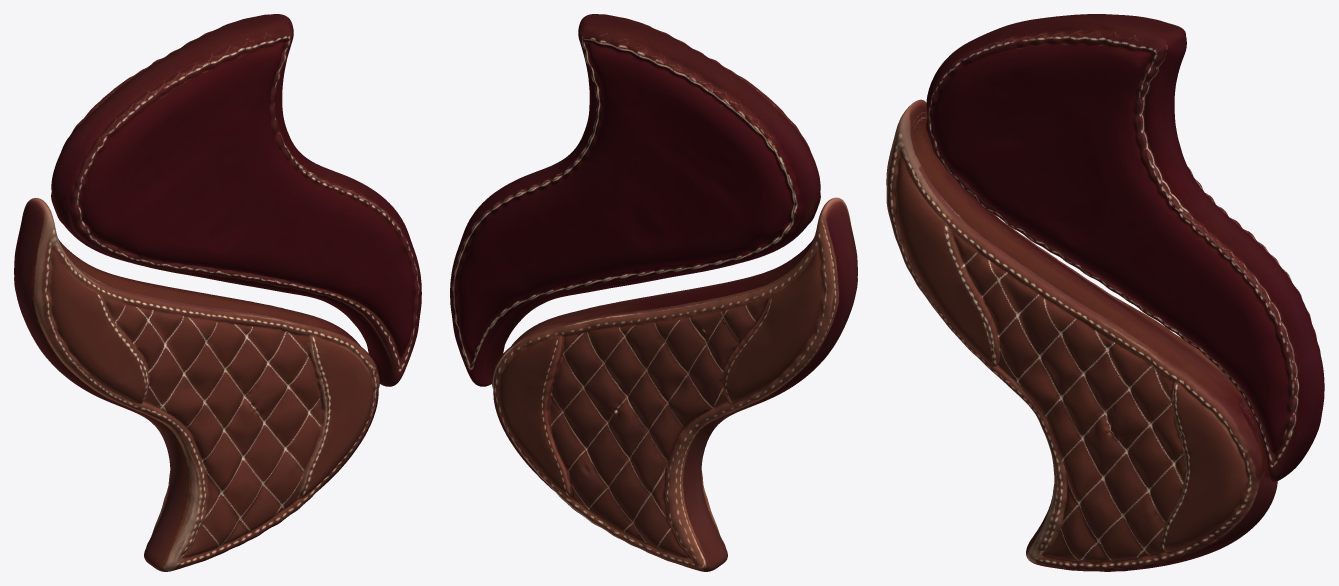
The model's file is opt_Leather_Wings_in_Flig_0506235622.glb.
The picture shows the model from 3 angles, left to right: view 1: azimuth 30°, elevation 25°; view 2: azimuth 150°, elevation 25°; view 3: azimuth 330°, elevation 25°; orthographic projection. The views are drawn at different scales.
Bounding box in the file's own units: 1.51 × 1.9 × 0.2337.
Materials: 1 (1 with a texture image).
